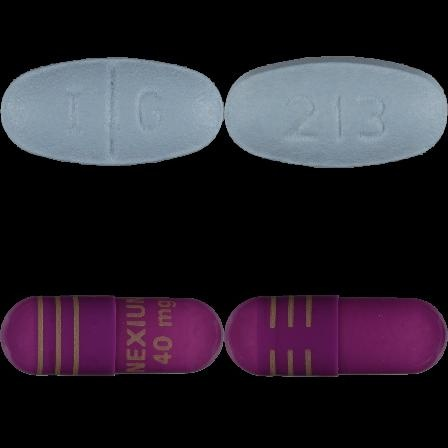63629-3309: (0, 0, 224, 224)
